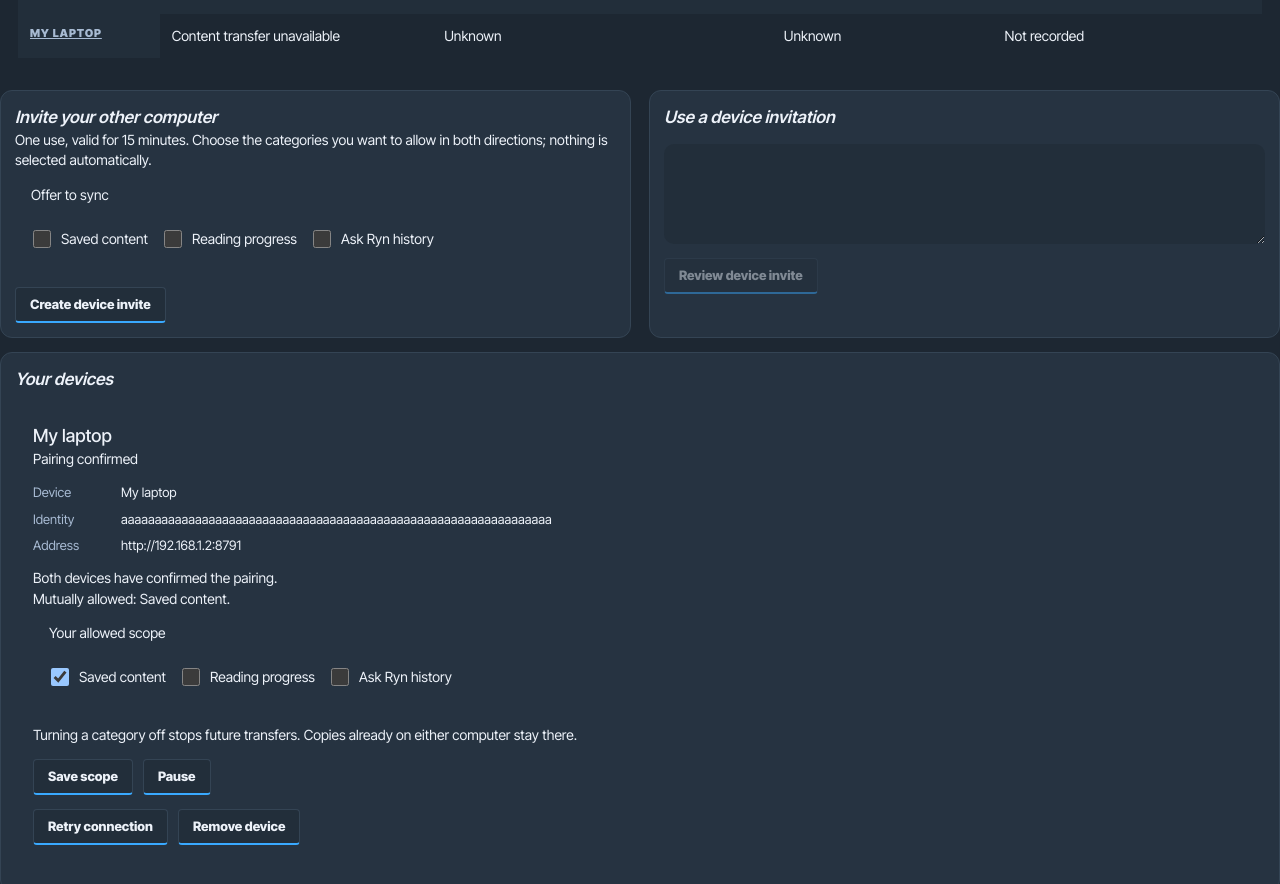
Test: shows a reload notice and no error when a confirmed operation's status refresh fails
(page scrolled)
Check: the text "Pairing confirmed" is shown, box x1=33 y1=450 x2=138 y2=467
Click the button "Pause": [177, 777] box x1=143 y1=759 x2=210 y2=795
(page scrolled)
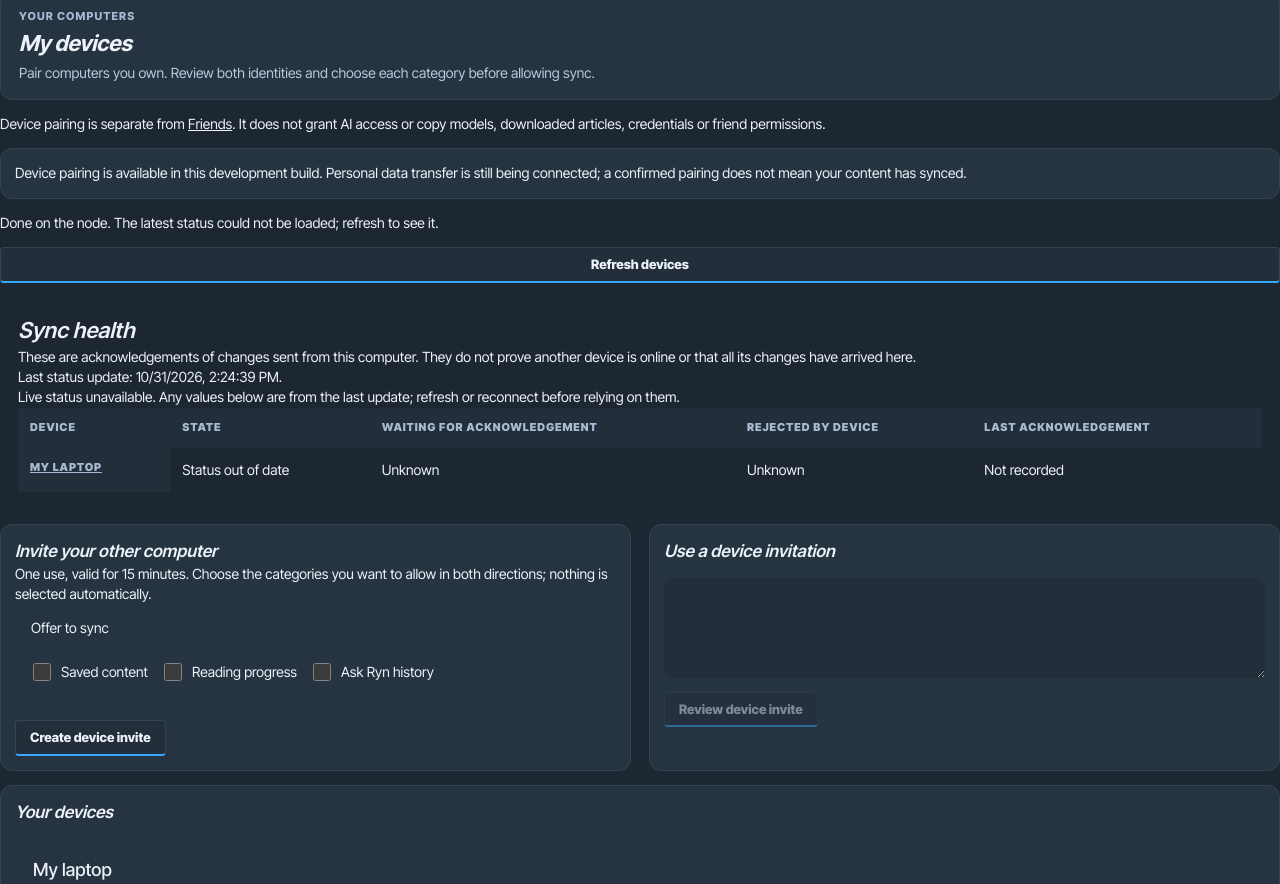
Check: the message reads "Done on the node. The latest status could not be loaded; refresh to see it.", box x1=0 y1=214 x2=438 y2=231
